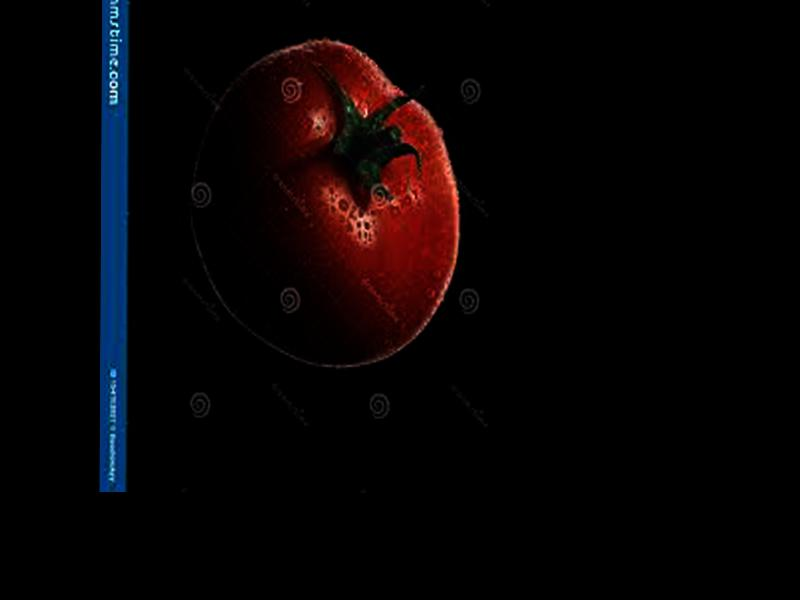Tomato: (191, 37, 461, 370)
